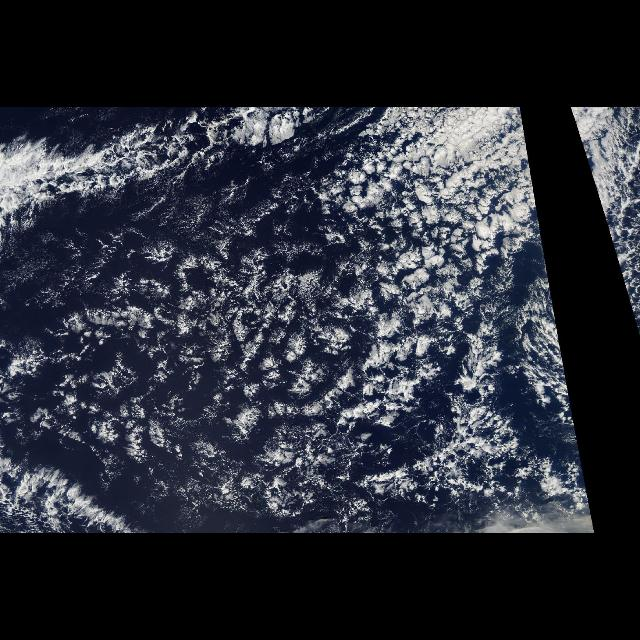Fish: (403, 225, 539, 528), (2, 108, 304, 238), (2, 434, 170, 534)
Flower: (21, 117, 528, 459)
Gravel: (9, 218, 537, 502)
